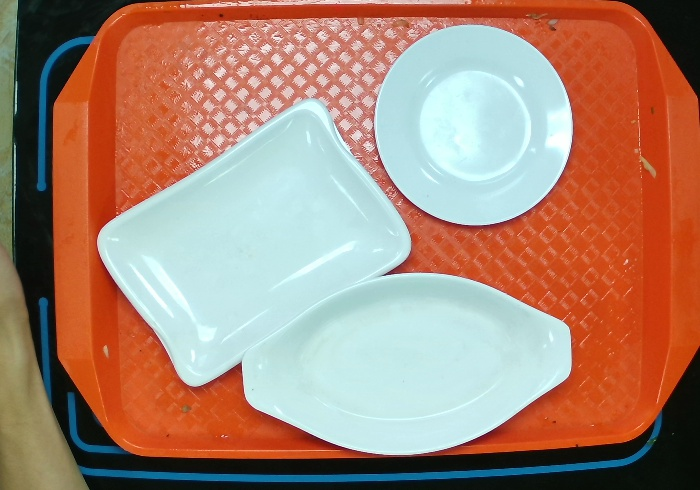RJxy-Si_Fang_Ao_Bian_Wan: (95, 96, 413, 388)
RJxy-Xiao_Yuan_Die: (372, 23, 575, 227)
RJxy-Yu_Pan: (240, 271, 574, 457)
